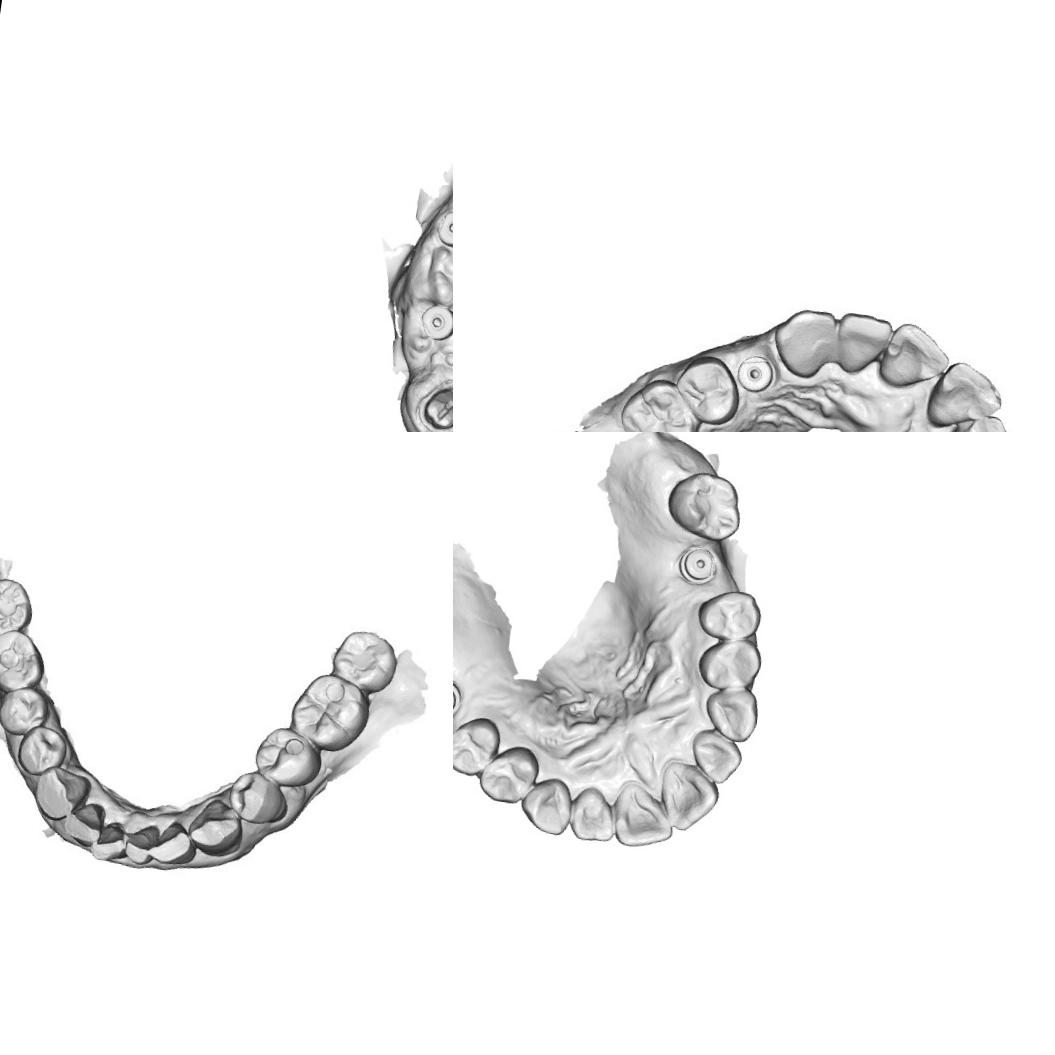canine: (766, 302, 841, 384), (184, 795, 246, 860), (30, 764, 94, 825), (516, 774, 576, 837), (701, 683, 762, 744)
crown: (414, 377, 453, 432)
implant: (732, 344, 778, 400), (674, 542, 720, 590), (417, 300, 453, 344), (434, 207, 453, 251), (453, 675, 465, 721)
incisor: (923, 355, 1008, 432), (874, 317, 952, 394), (607, 777, 679, 853), (654, 758, 724, 836), (832, 309, 893, 378), (565, 781, 622, 846), (687, 724, 746, 786), (146, 818, 201, 868), (60, 799, 108, 849), (939, 407, 1018, 432), (88, 819, 130, 864), (122, 821, 160, 867)
molar: (285, 667, 374, 756), (662, 466, 747, 546), (612, 371, 707, 432), (328, 626, 402, 696), (0, 625, 49, 697), (0, 573, 37, 642)
premolar: (672, 351, 746, 426), (250, 723, 326, 792), (695, 632, 766, 697), (476, 740, 543, 808), (694, 584, 766, 644), (225, 768, 292, 828), (453, 711, 503, 780), (15, 722, 70, 779), (0, 682, 51, 740)
